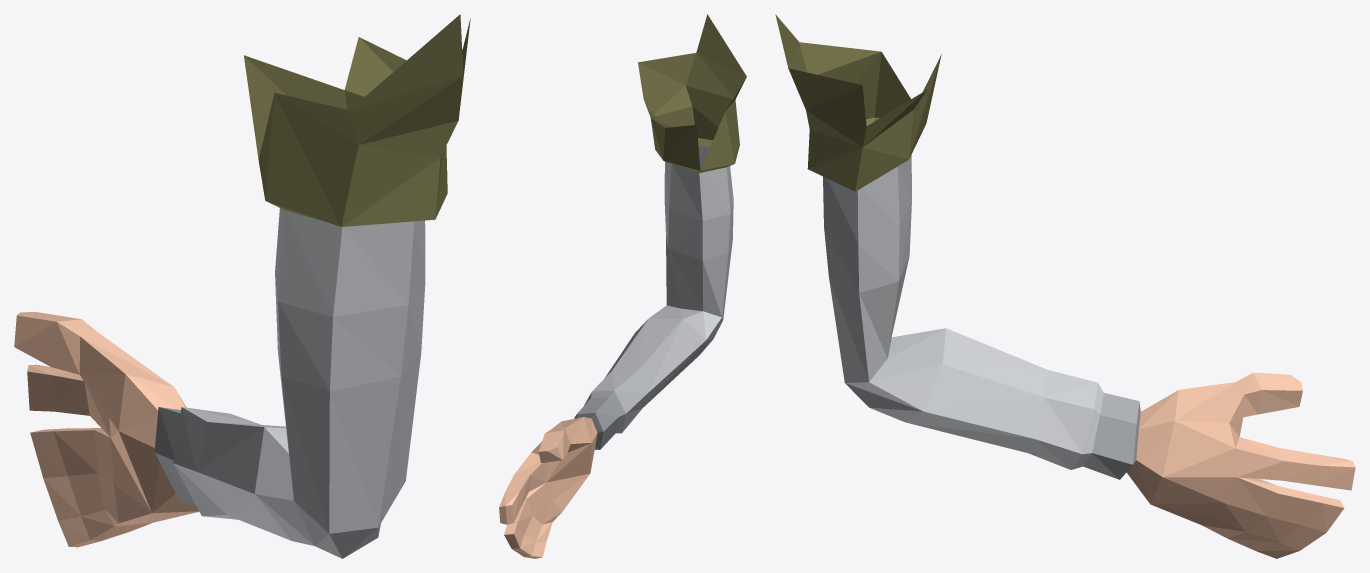
The model's file is Daughter_01_ArmR_72_01_A.obj.
3 views of the same model, side by side, from view 1: azimuth 30°, elevation 25°; view 2: azimuth 150°, elevation 25°; view 3: azimuth 270°, elevation 25° (orthographic). The views are drawn at different scales.
Parts seen in each view (by area): view 1: Daughter_01_ArmR_72_01_A; view 2: Daughter_01_ArmR_72_01_A; view 3: Daughter_01_ArmR_72_01_A.
Part boxes in pixels (<box>): Daughter_01_ArmR_72_01_A: <box>14,14,470,558</box>; Daughter_01_ArmR_72_01_A: <box>499,14,746,558</box>; Daughter_01_ArmR_72_01_A: <box>775,14,1355,558</box>.
Size of the model in its own units: 0.1622 by 0.6208 by 0.5901.
1 material, 1 textured.
